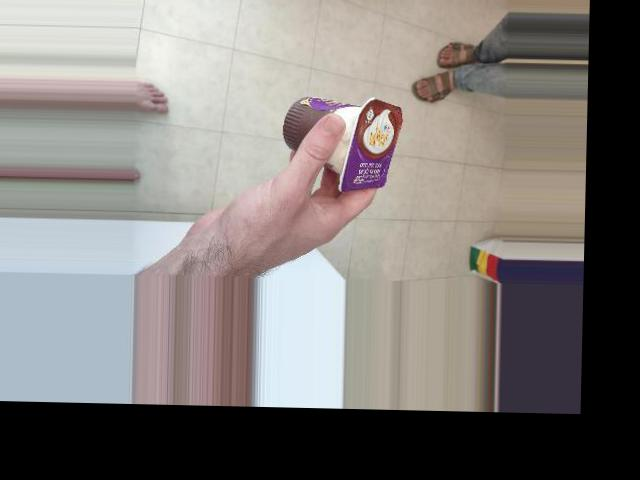milky: (322, 52, 413, 178)
